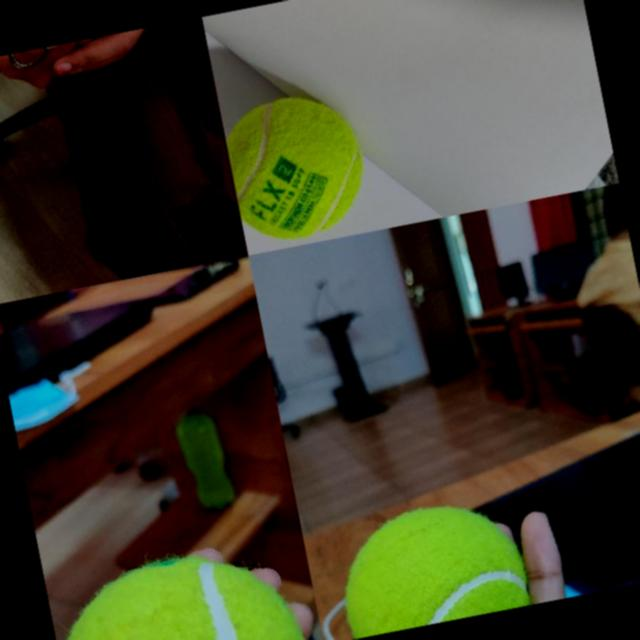tennis-ball: (330, 492, 531, 639), (45, 536, 308, 640), (220, 83, 378, 250)
